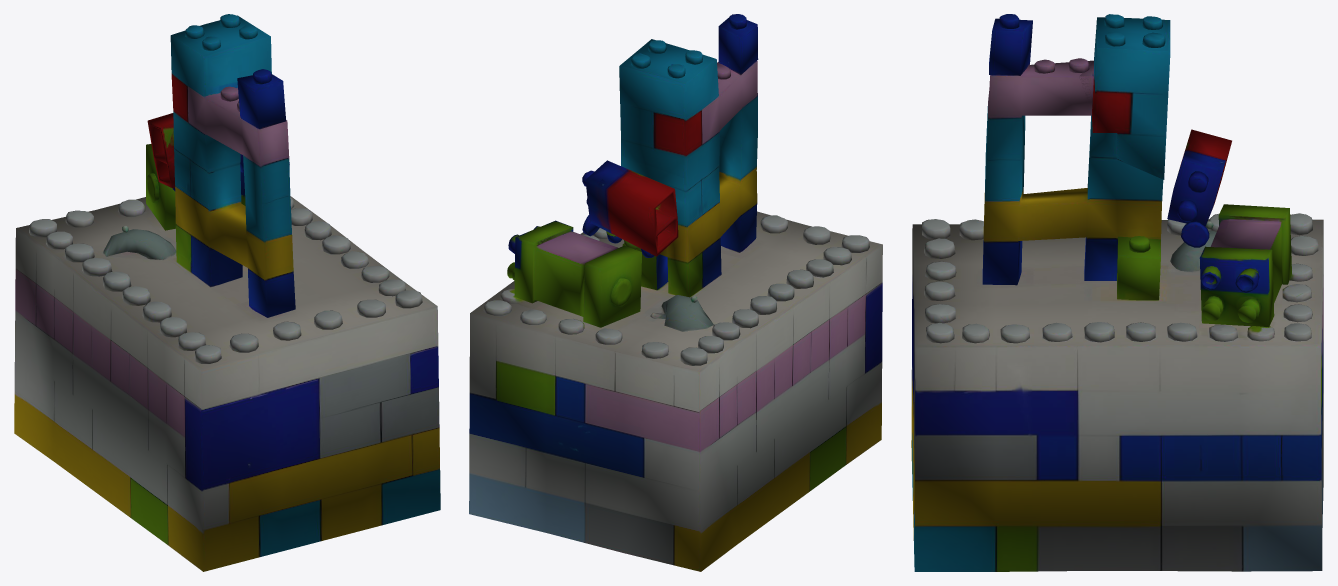
The model's file is object_37_asset_0f63ee20.glb.
3 renders of one model, left to right at view 1: azimuth 30°, elevation 25°; view 2: azimuth 150°, elevation 25°; view 3: azimuth 270°, elevation 25°, orthographic. The views are drawn at different scales.
Parts seen in each view (by area): view 1: tripo_node_3e3510f4-51b1-4a73-b00f-06baea9e56b0; view 2: tripo_node_3e3510f4-51b1-4a73-b00f-06baea9e56b0; view 3: tripo_node_3e3510f4-51b1-4a73-b00f-06baea9e56b0.
Part boxes in pixels (x1,y1,x2,y2): tripo_node_3e3510f4-51b1-4a73-b00f-06baea9e56b0: (14, 14, 440, 571); tripo_node_3e3510f4-51b1-4a73-b00f-06baea9e56b0: (469, 14, 882, 571); tripo_node_3e3510f4-51b1-4a73-b00f-06baea9e56b0: (911, 14, 1323, 571).
Bounding box in the file's own units: 0.5684 × 0.998 × 0.7676.
1 material, 1 textured.
